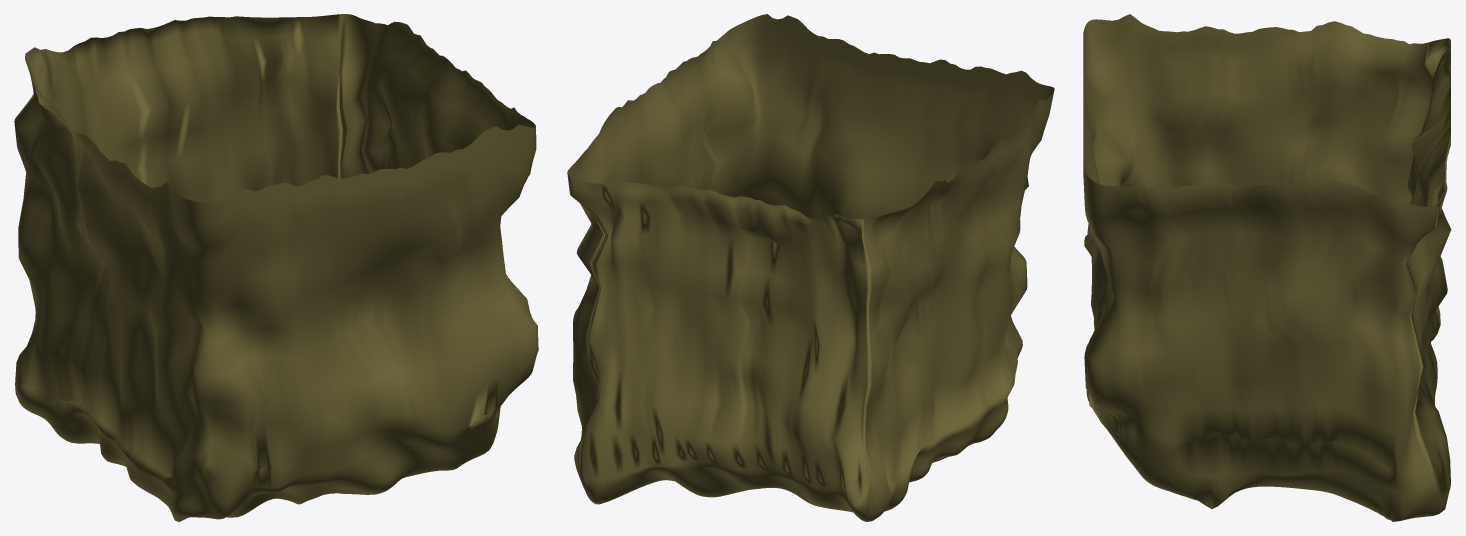
Rendered from ocean box.fbx.
3 views of the same model, side by side, from view 1: azimuth 30°, elevation 25°; view 2: azimuth 150°, elevation 25°; view 3: azimuth 270°, elevation 25° (orthographic). The views are drawn at different scales.
Parts seen in each view (by area): view 1: Landscape.002; view 2: Landscape.002; view 3: Landscape.002.
Boxes of the visible parts, bbox=[...] form: Landscape.002: bbox=[14, 14, 538, 521]; Landscape.002: bbox=[567, 14, 1054, 521]; Landscape.002: bbox=[1083, 14, 1451, 521].
Bounding box in the file's own units: 206 × 217 × 200.
